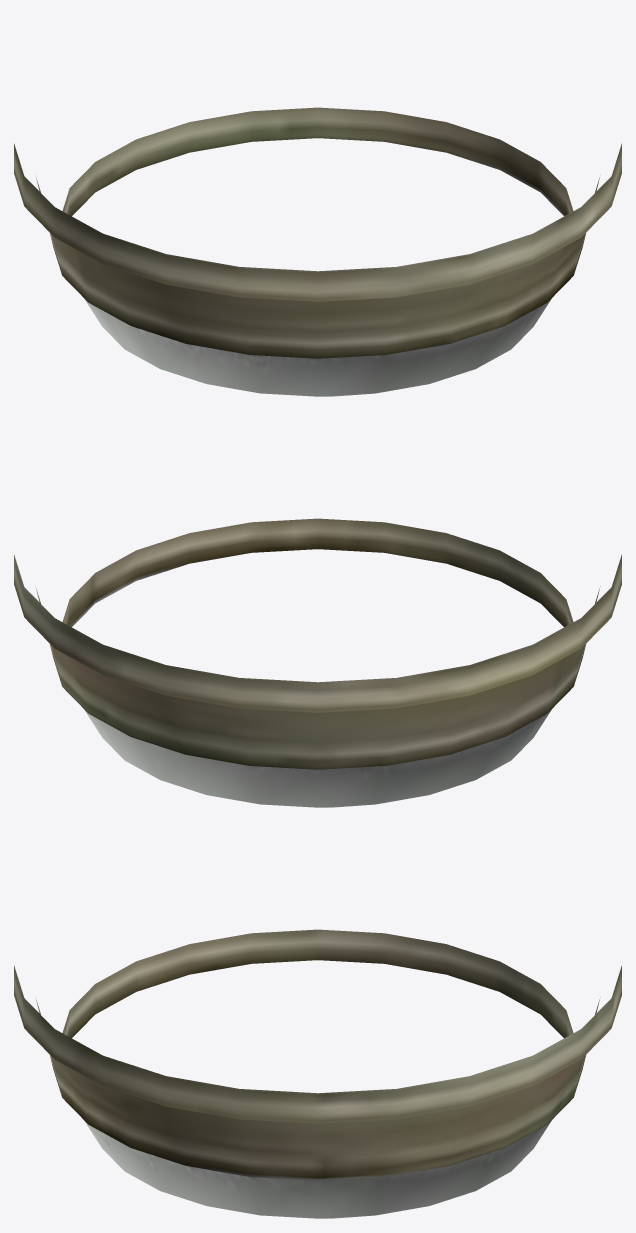
The model's file is light_domelight02_on.glb.
The picture shows the model from 3 angles, top to bottom: view 1: azimuth 30°, elevation 25°; view 2: azimuth 150°, elevation 25°; view 3: azimuth 270°, elevation 25°; orthographic projection.
Visible parts, largest first — view 1: 0_light_domelight02_on; view 2: 0_light_domelight02_on; view 3: 0_light_domelight02_on.
Boxes of the visible parts, box(x1,y1,x2,y2) form: 0_light_domelight02_on: box(14, 107, 621, 396); 0_light_domelight02_on: box(14, 518, 621, 807); 0_light_domelight02_on: box(14, 929, 621, 1218).
Bounding box in the file's own units: 0.4572 × 0.1785 × 0.4572.
Materials: 1 (1 with a texture image).
